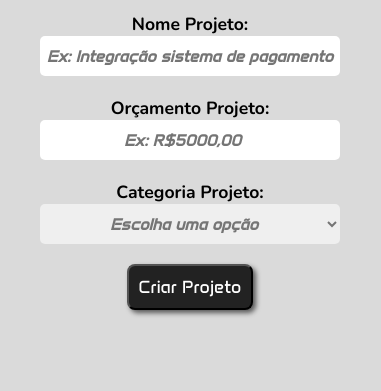
teste integração componente Form › deve verificar a validação do Zod em caso de dados inválidos
Click the button "Criar Projeto" at (190,287), box [127, 264, 253, 310]
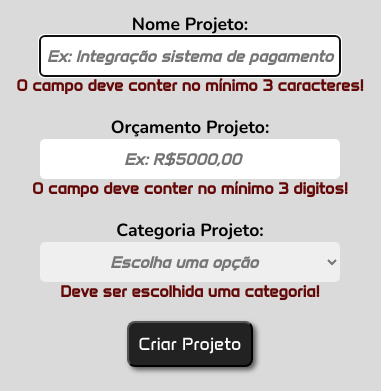
Now the text "O campo deve conter no mínimo 3 caracteres!" is shown, box [16, 76, 364, 95]
Now the text "O campo deve conter no mínimo 3 digitos!" is shown, box [32, 179, 348, 198]
Now the text "Deve ser escolhida uma categoria!" is shown, box [40, 282, 340, 301]
